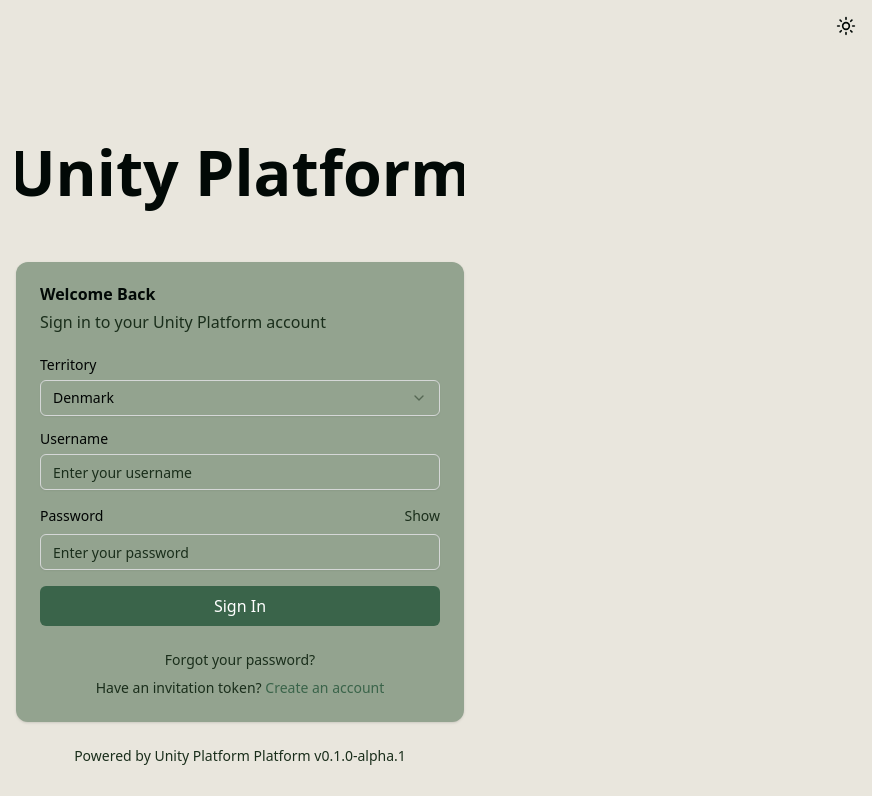
Scenario: LoginPage › shows validation error for short password
The image size is (872, 796).
Type "testuser" into the field labelled "Username" at (240, 472), box x1=40 y1=454 x2=440 y2=490
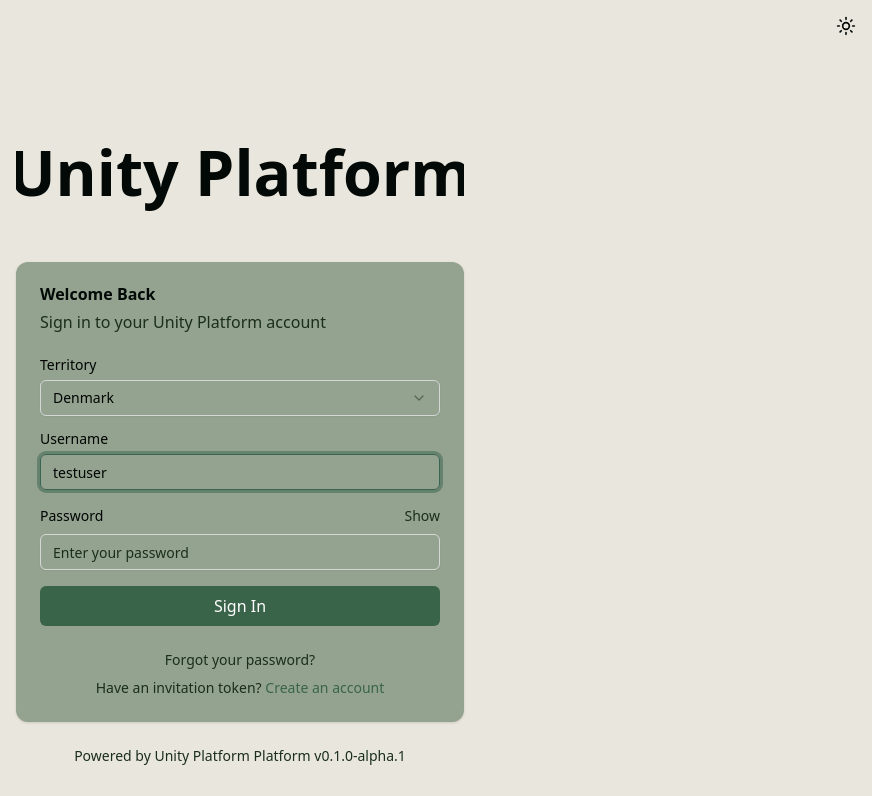
Type "short" into the password field labelled "Password" at (240, 552), box x1=40 y1=534 x2=440 y2=570
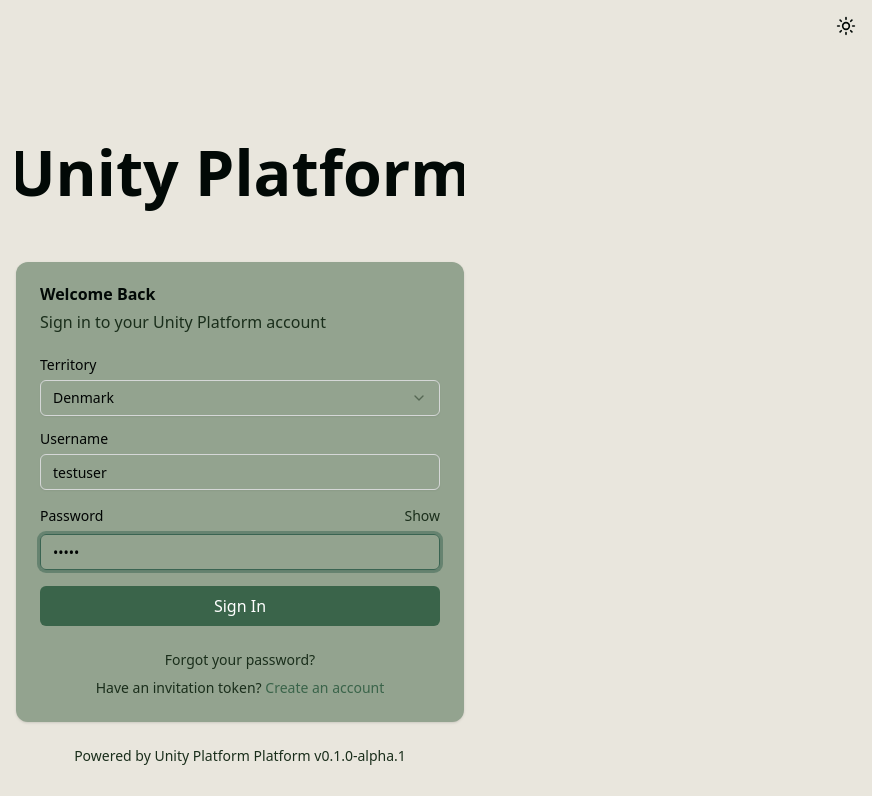
Click the button "Sign In" at (240, 606), box x1=40 y1=586 x2=440 y2=626
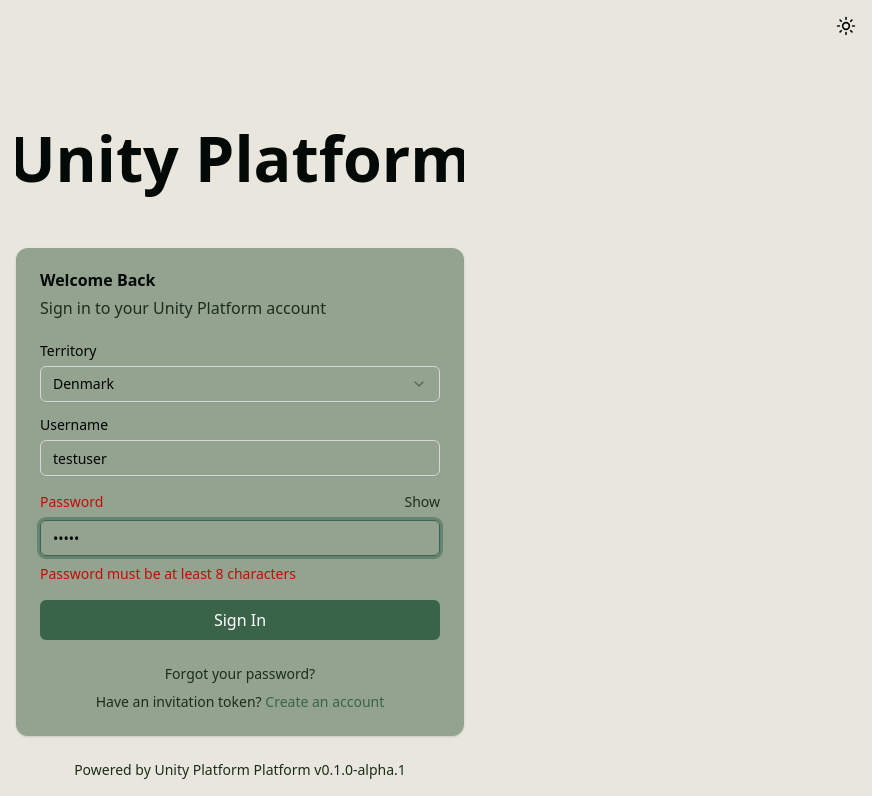
Expected: the text "Password must be at least 8 characters" is shown, x1=40 y1=564 x2=296 y2=583
